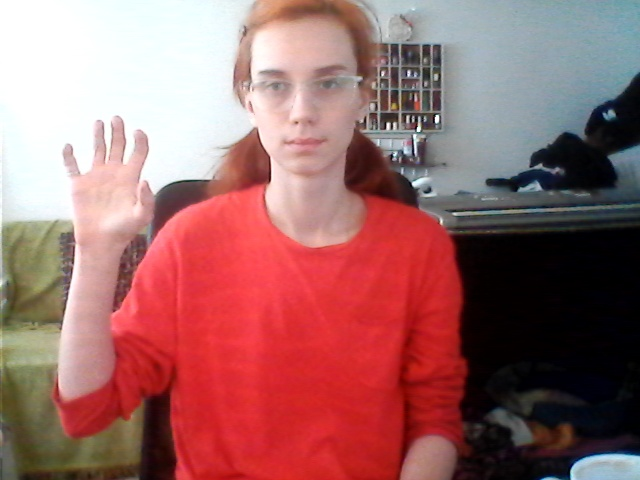budova: (48, 109, 166, 272)
